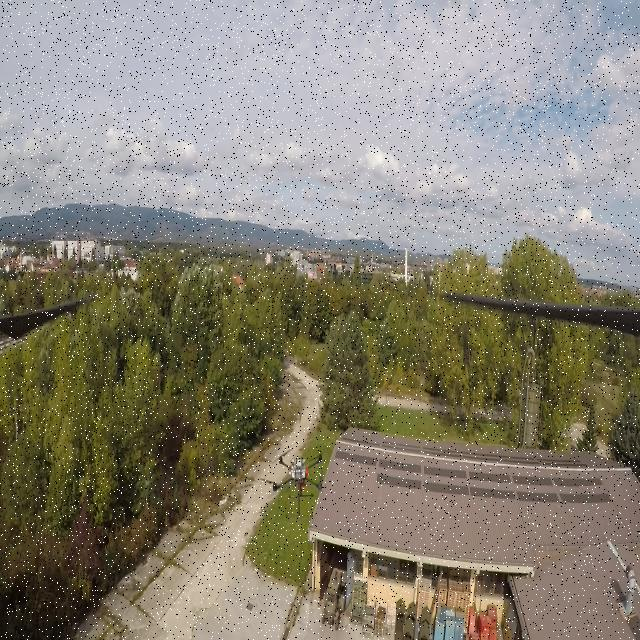UAV: (261, 446, 329, 524)
